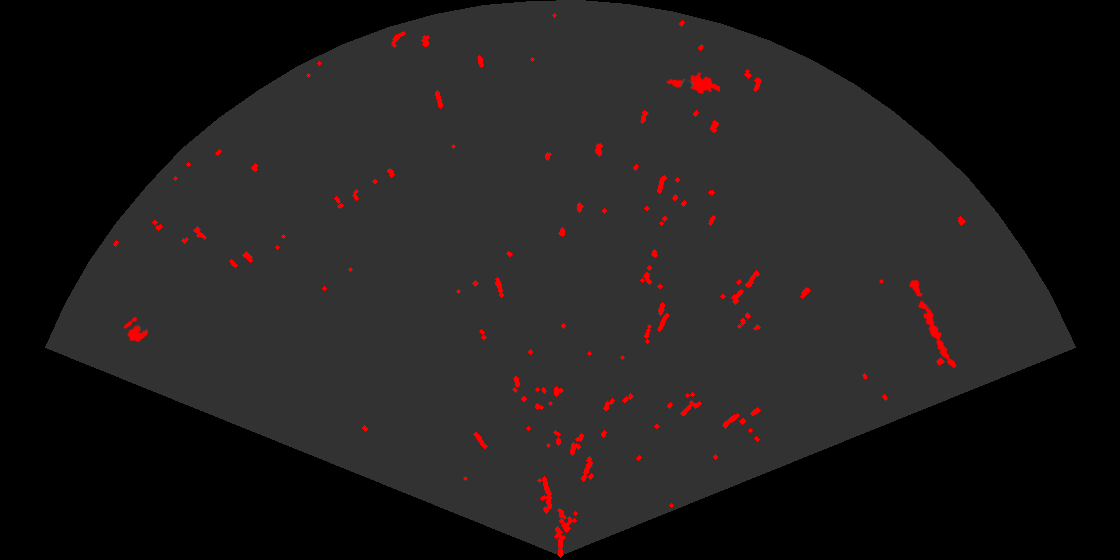ball: (122, 315, 150, 344)
chain: (908, 277, 958, 370)
frogman: (664, 71, 720, 96)
